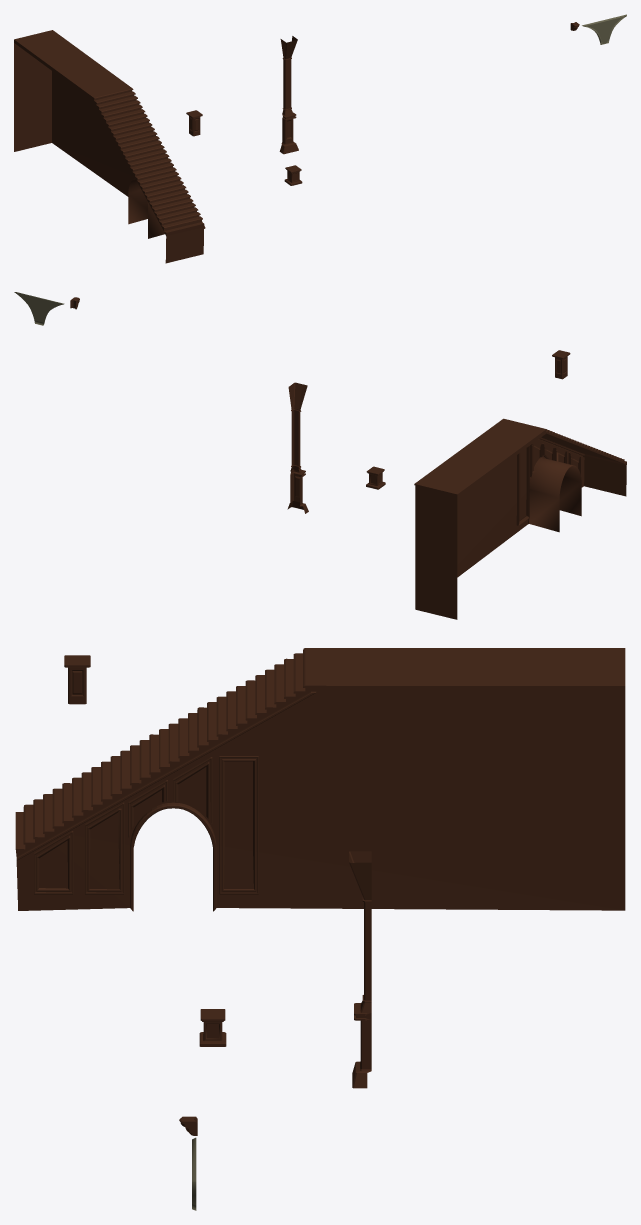
Rendered from baked objects.fbx.
The picture shows the model from 3 angles, top to bottom: view 1: azimuth 30°, elevation 25°; view 2: azimuth 150°, elevation 25°; view 3: azimuth 270°, elevation 25°; orthographic projection. The views are drawn at different scales.
Parts seen in each view (by area): view 1: Cube.022, FLOOR1plane.004, Cube.001; view 2: Cube.022, FLOOR1plane.004, Cube.001; view 3: Cube.022, FLOOR1plane.004, Cube.023, Cube.010.
Part boxes in pixels (bbox=[...]): Cube.022: bbox=[14, 30, 205, 263]; FLOOR1plane.004: bbox=[279, 36, 298, 154]; Cube.001: bbox=[582, 14, 626, 44]; Cube.022: bbox=[414, 418, 626, 619]; FLOOR1plane.004: bbox=[287, 382, 308, 513]; Cube.001: bbox=[14, 292, 64, 325]; Cube.022: bbox=[15, 648, 625, 911]; FLOOR1plane.004: bbox=[349, 851, 371, 1088]; Cube.023: bbox=[64, 655, 90, 704]; Cube.010: bbox=[199, 1009, 226, 1046].
Bounding box in the file's own units: 20029 × 4898 × 10455.
